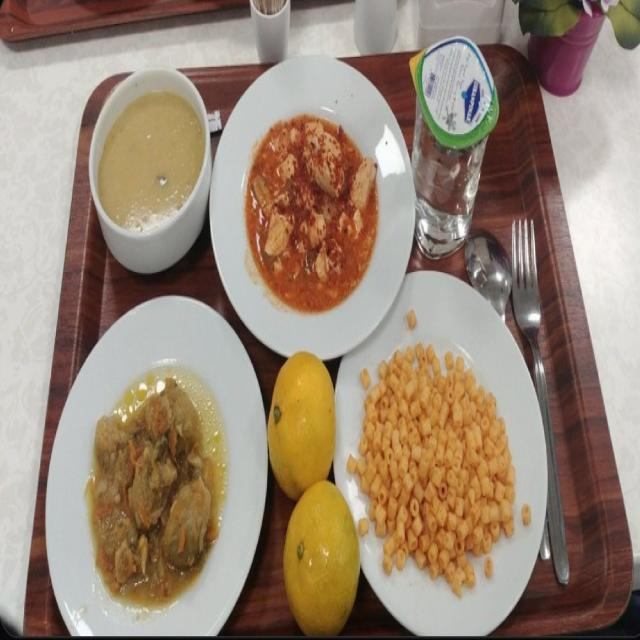ana_yemek: (347, 323, 524, 598), (60, 365, 236, 613), (231, 77, 389, 341)
corba: (88, 67, 211, 274)
